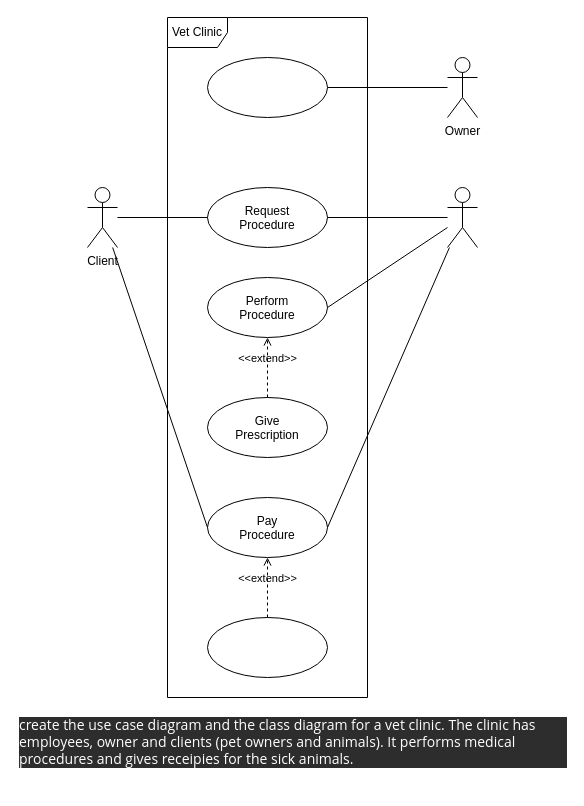
This 584x806 diagram has some shape labels left out. Here are the shapes that lost their labels. From the top down, the centre of each, then its label:
At (267,87): "Manage Employees".
At (462,217): "Employee".
At (267,647): "Receive Prescription".
